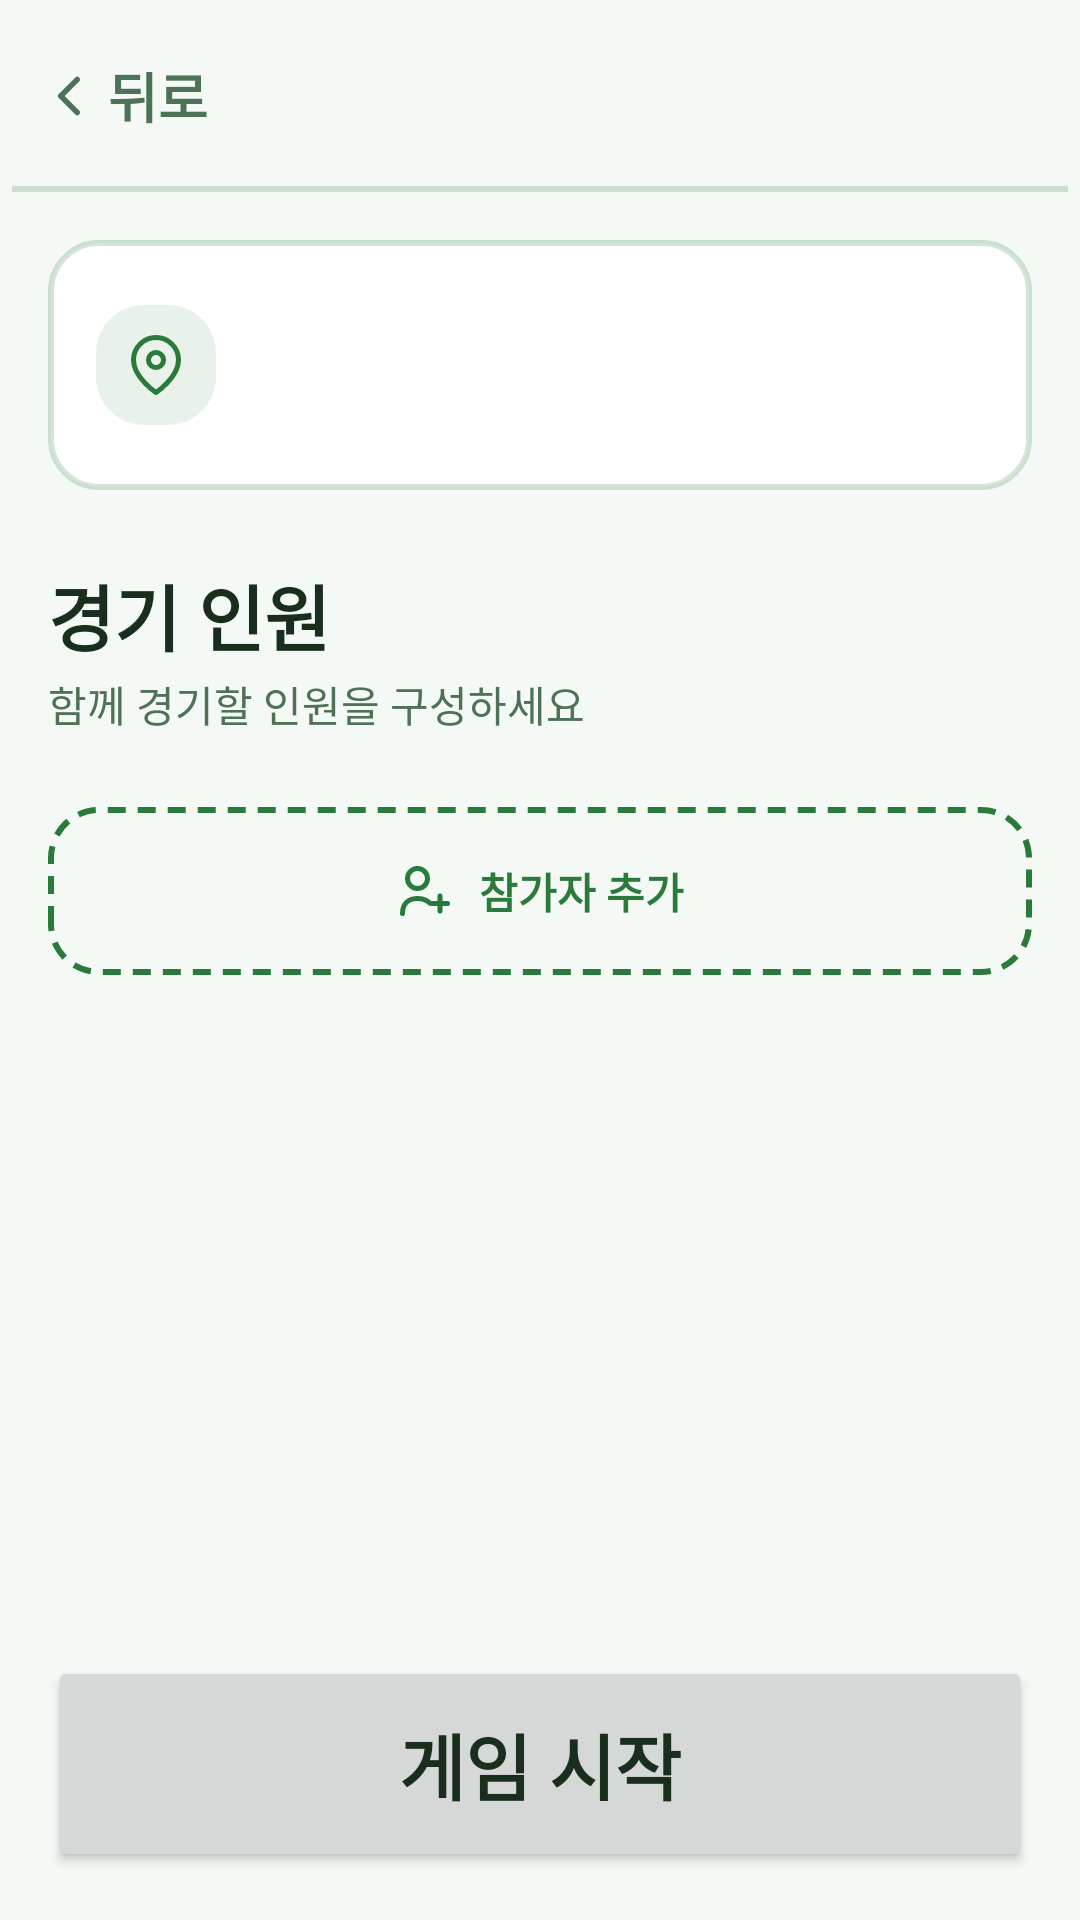

Icons on this 1080*1920 Android screen, each with its box as (x1, y1, x2, y2):
chevron left: (58, 76, 80, 116)
map pin: (96, 305, 216, 425)
user plus: (400, 866, 450, 916)
